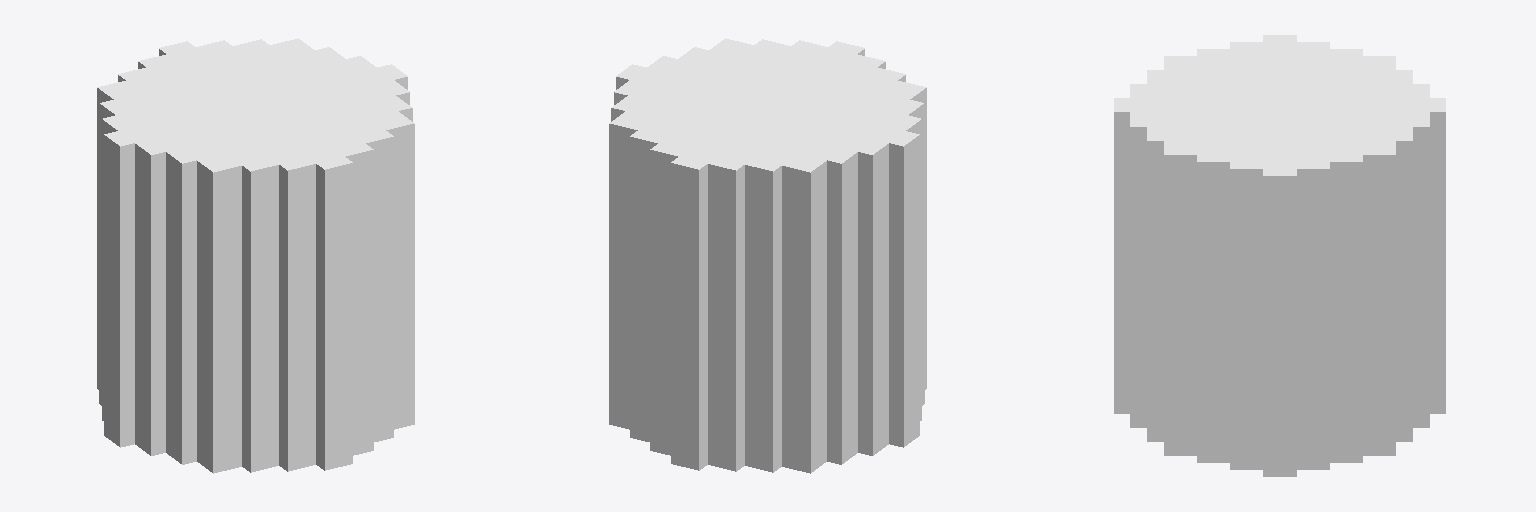
File: BigLog01.obj
3 renders of one model, left to right at view 1: azimuth 30°, elevation 25°; view 2: azimuth 150°, elevation 25°; view 3: azimuth 270°, elevation 25°, orthographic.
Visible parts, largest first — view 1: object 1; view 2: object 1; view 3: object 1.
Part boxes in pixels (left/top/right/bottom): object 1: left=97, top=38, right=414, bottom=473; object 1: left=609, top=38, right=926, bottom=473; object 1: left=1114, top=35, right=1445, bottom=476.
Bounding box in the file's own units: 2 × 2 × 2.